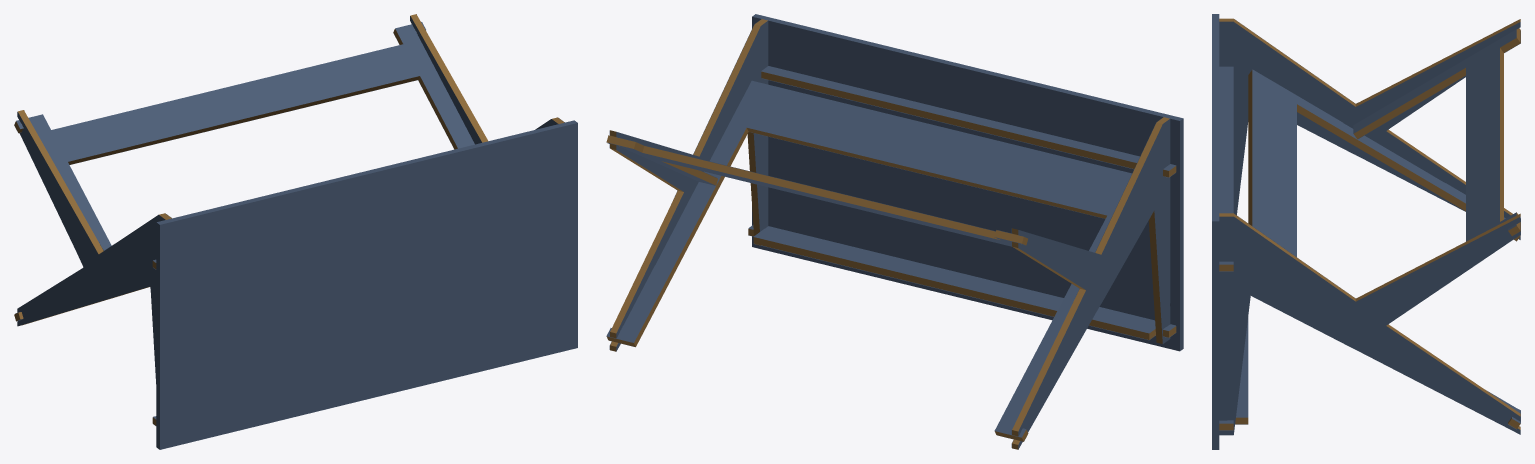
File: NODO_ESCRITORIO_ESCULTORICO_CUARZO_AR_PIPELINE_CLASICO_V13_CENTRO_AR.glb
3 views of the same model, side by side, from view 1: azimuth 30°, elevation 25°; view 2: azimuth 150°, elevation 25°; view 3: azimuth 270°, elevation 25° (orthographic). The views are drawn at different scales.
Parts seen in each view (by area): view 1: G_Tapa_Superior_CARAS_COLOR_REAL, B_Escuadra_Trasera_PIEL_LISA_1, D_Lateral_Izq_PIEL_LISA_-1, G_Tapa_Superior_CANTO_MDF, B_Escuadra_Trasera_canto, D_Lateral_Izq_cuerpo, D_Lateral_Izq_canto, C_Lateral_Der_canto, C_Lateral_Der_PIEL_LISA_-1; view 2: G_Tapa_Superior_CARAS_COLOR_REAL, A_Escuadra_Delantera_PIEL_LISA_1, D_Lateral_Izq_PIEL_LISA_-1, F_Traba_Delantera_PIEL_LISA_1, A_Escuadra_Delantera_cuerpo, C_Lateral_Der_PIEL_LISA_-1, B_Escuadra_Trasera_canto, D_Lateral_Izq_canto, C_Lateral_Der_canto, E_Traba_Trasera_PIEL_LISA_1, E_Traba_Trasera_canto, F_Traba_Delantera_canto (+5 smaller); view 3: C_Lateral_Der_PIEL_LISA_1, D_Lateral_Izq_PIEL_LISA_1, A_Escuadra_Delantera_PIEL_LISA_1, B_Escuadra_Trasera_PIEL_LISA_1, G_Tapa_Superior_CANTO_MDF, C_Lateral_Der_cuerpo, A_Escuadra_Delantera_canto, E_Traba_Trasera_PIEL_LISA_1, D_Lateral_Izq_cuerpo, B_Escuadra_Trasera_canto, C_Lateral_Der_canto, A_Escuadra_Delantera_cuerpo (+3 smaller).
Part boxes in pixels (x1,y1,x2,y2): G_Tapa_Superior_CARAS_COLOR_REAL: (160, 123, 577, 449); B_Escuadra_Trasera_PIEL_LISA_1: (16, 22, 474, 250); D_Lateral_Izq_PIEL_LISA_-1: (17, 112, 164, 330); G_Tapa_Superior_CANTO_MDF: (156, 120, 577, 449); B_Escuadra_Trasera_canto: (14, 29, 457, 164); D_Lateral_Izq_cuerpo: (17, 112, 165, 383); D_Lateral_Izq_canto: (18, 110, 171, 325); C_Lateral_Der_canto: (410, 14, 564, 142); C_Lateral_Der_PIEL_LISA_-1: (410, 16, 557, 144); G_Tapa_Superior_CARAS_COLOR_REAL: (752, 16, 1179, 351); A_Escuadra_Delantera_PIEL_LISA_1: (606, 80, 1131, 437); D_Lateral_Izq_PIEL_LISA_-1: (1018, 119, 1170, 448); F_Traba_Delantera_PIEL_LISA_1: (749, 225, 1175, 332); A_Escuadra_Delantera_cuerpo: (607, 127, 1106, 437); C_Lateral_Der_PIEL_LISA_-1: (616, 21, 768, 350); B_Escuadra_Trasera_canto: (606, 135, 1027, 245); D_Lateral_Izq_canto: (1012, 117, 1169, 449); C_Lateral_Der_canto: (610, 19, 767, 351); E_Traba_Trasera_PIEL_LISA_1: (761, 66, 1175, 170); E_Traba_Trasera_canto: (761, 71, 1176, 177); F_Traba_Delantera_canto: (748, 228, 1176, 339); C_Lateral_Der_PIEL_LISA_1: (1219, 216, 1520, 435); D_Lateral_Izq_PIEL_LISA_1: (1219, 22, 1520, 239); A_Escuadra_Delantera_PIEL_LISA_1: (1252, 69, 1520, 423); B_Escuadra_Trasera_PIEL_LISA_1: (1353, 29, 1516, 241); G_Tapa_Superior_CANTO_MDF: (1212, 14, 1219, 449); C_Lateral_Der_cuerpo: (1219, 217, 1520, 434); A_Escuadra_Delantera_canto: (1248, 70, 1520, 428); E_Traba_Trasera_PIEL_LISA_1: (1219, 66, 1233, 264); D_Lateral_Izq_cuerpo: (1219, 21, 1520, 239); B_Escuadra_Trasera_canto: (1354, 28, 1520, 235); C_Lateral_Der_canto: (1219, 213, 1520, 429); A_Escuadra_Delantera_cuerpo: (1252, 70, 1520, 423).
Size of what is drawn, in the model's own units: 1.22 by 0.628 by 0.7686.
Materials: 2 (2 with a texture image).
